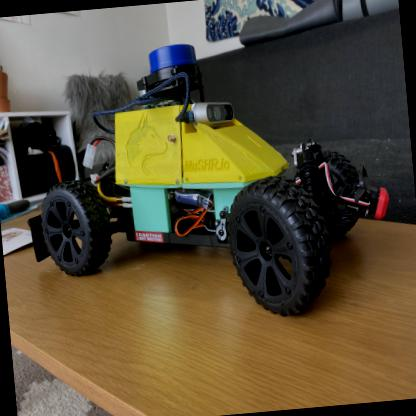mushr_car: (13, 27, 400, 341)
